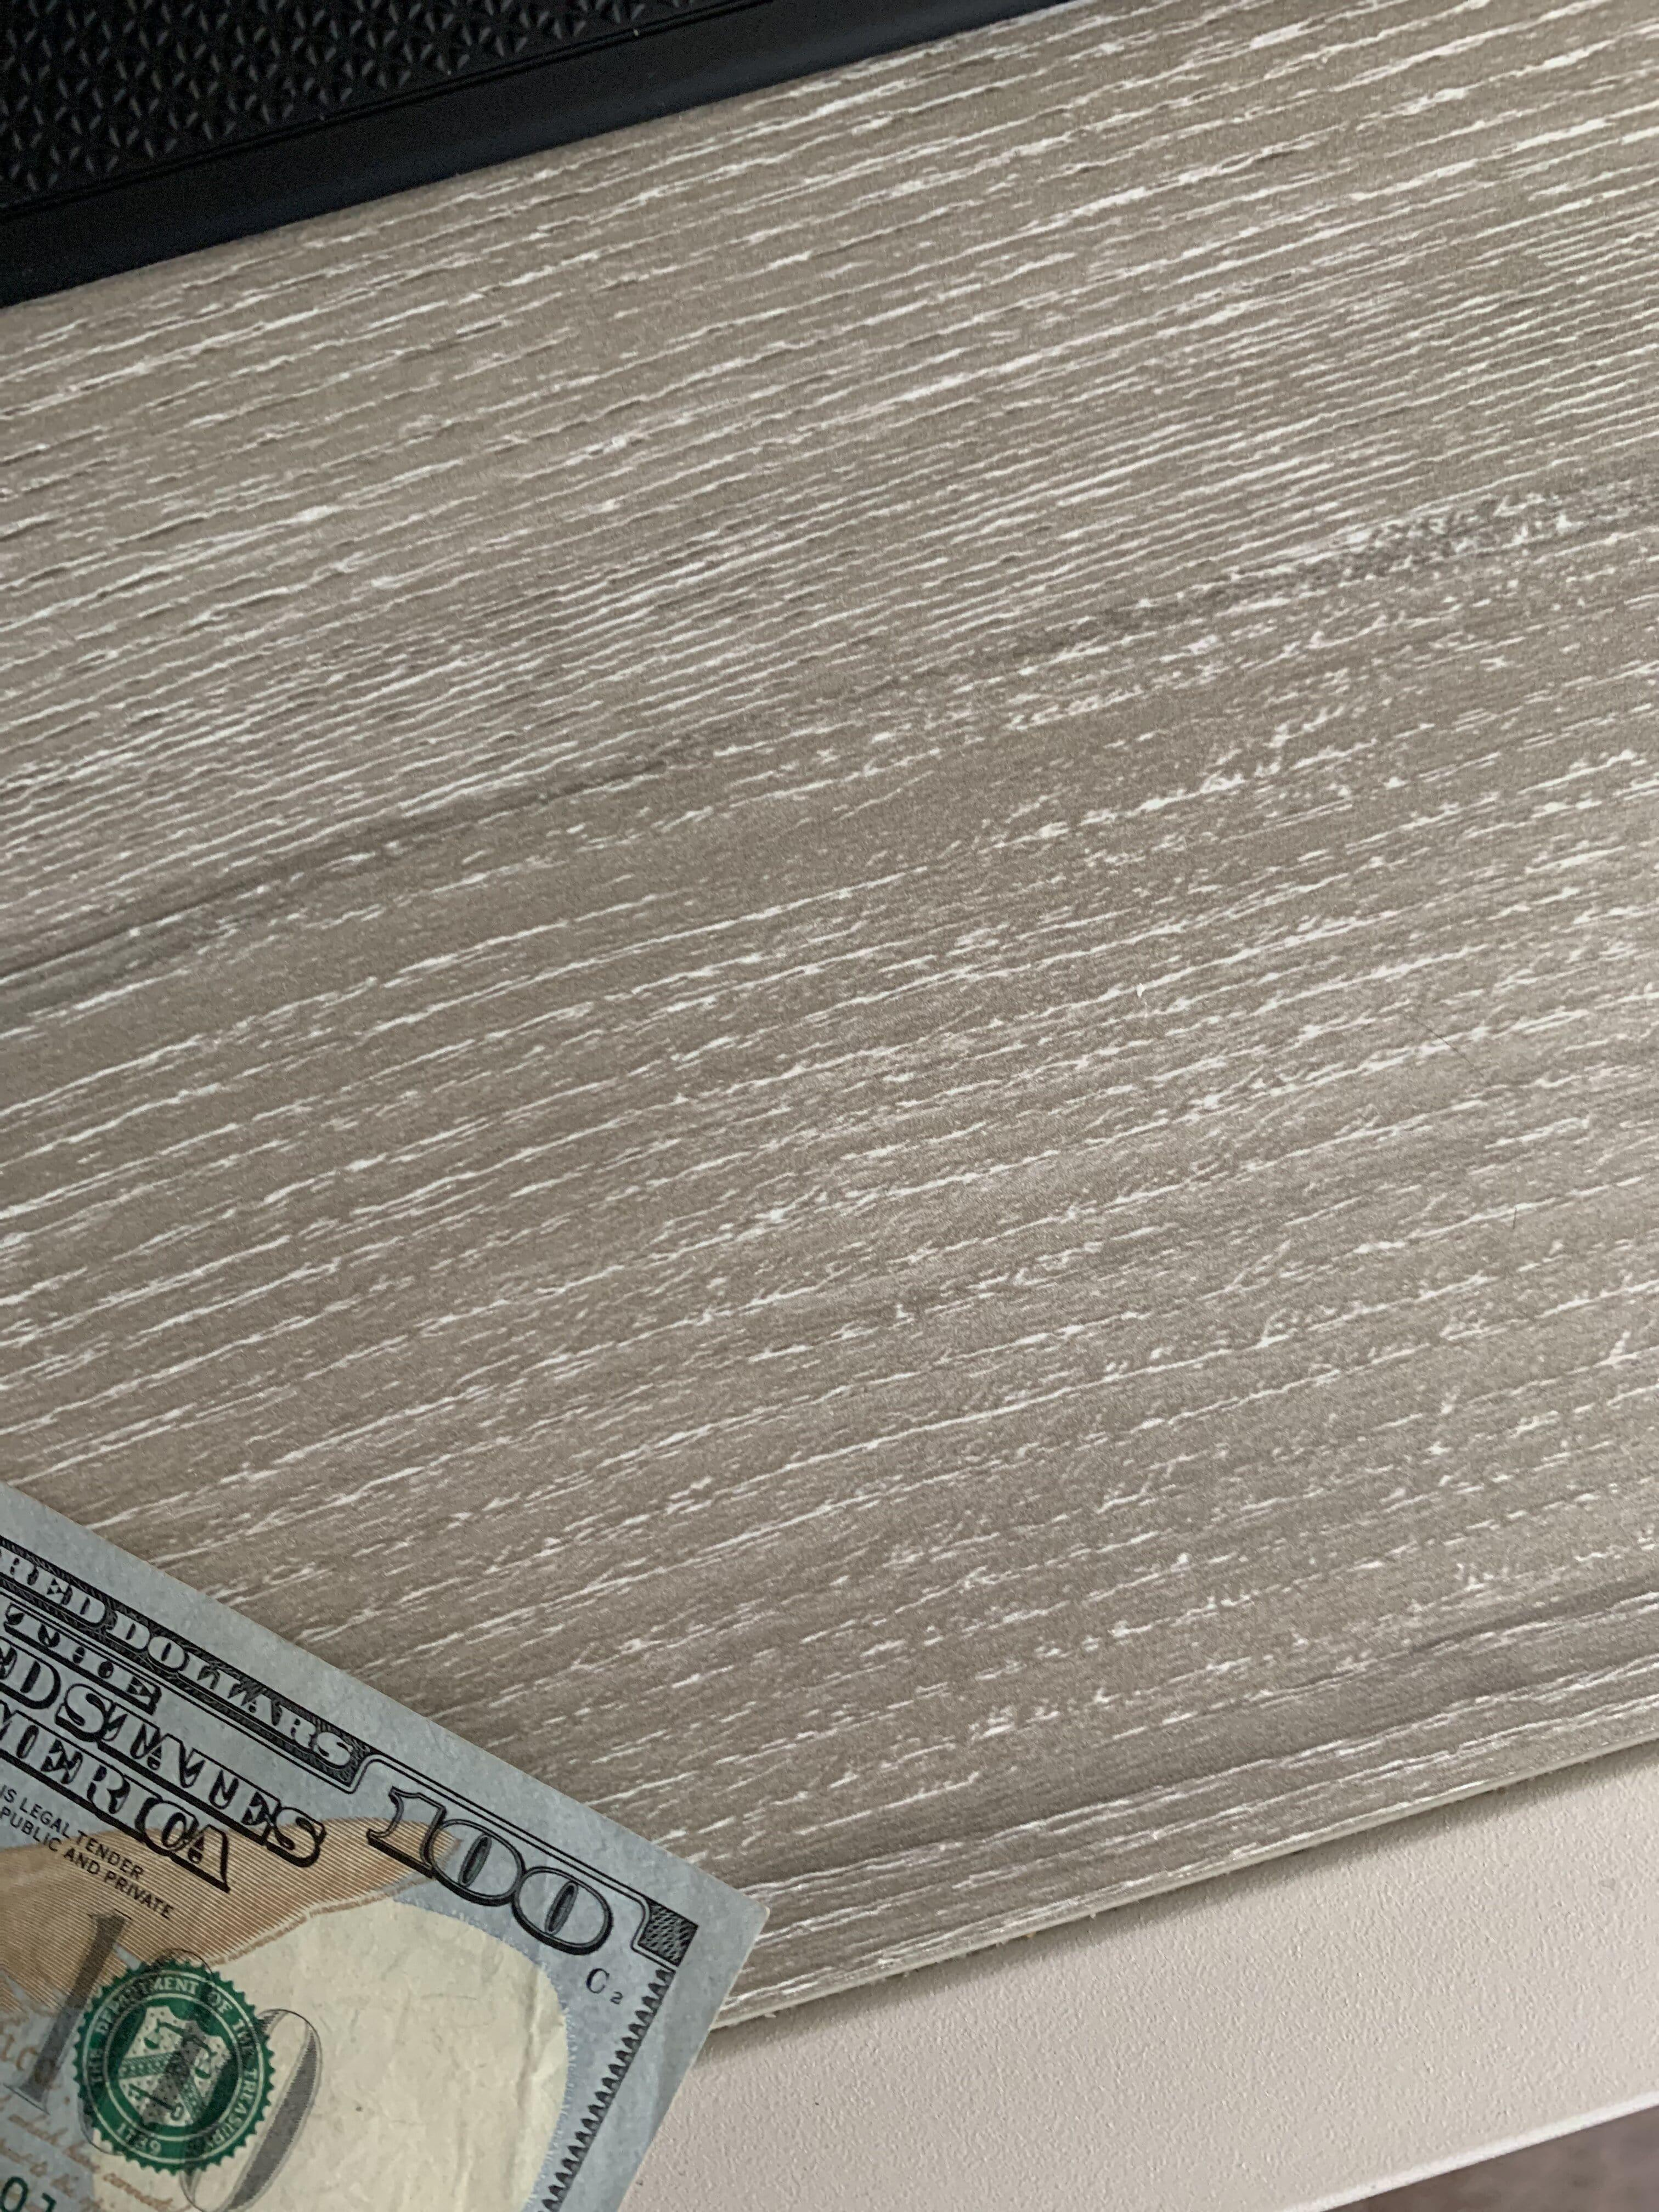HundredBill: (2, 1420, 795, 2207)
